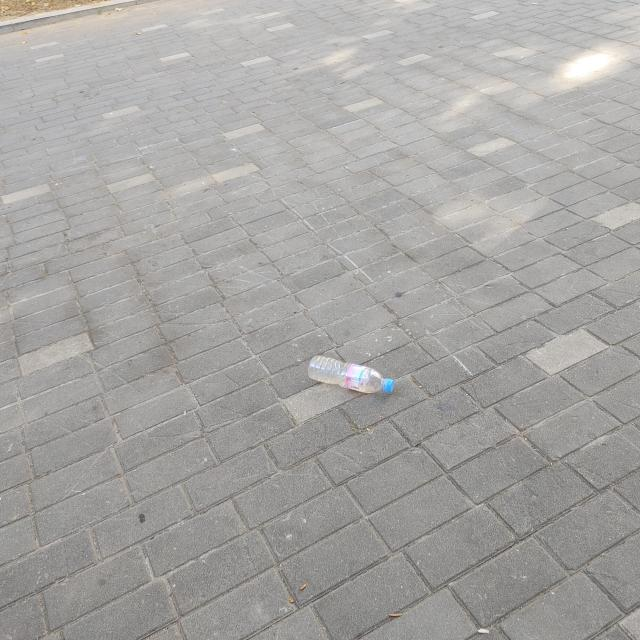plastic: (308, 356, 395, 394)
